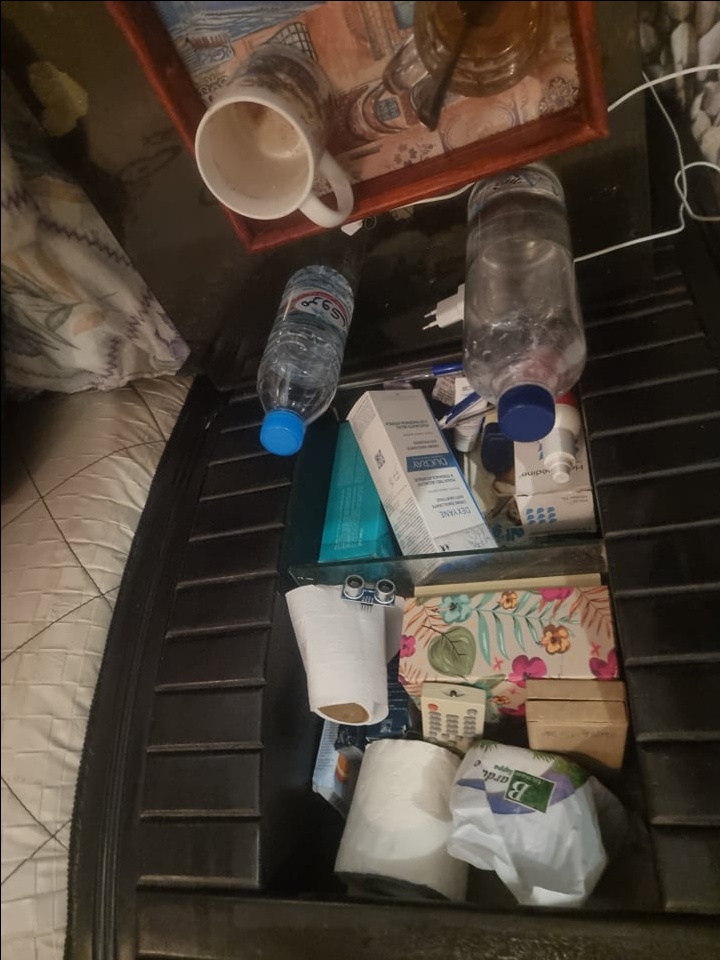SENSOR: (340, 571, 396, 608)
